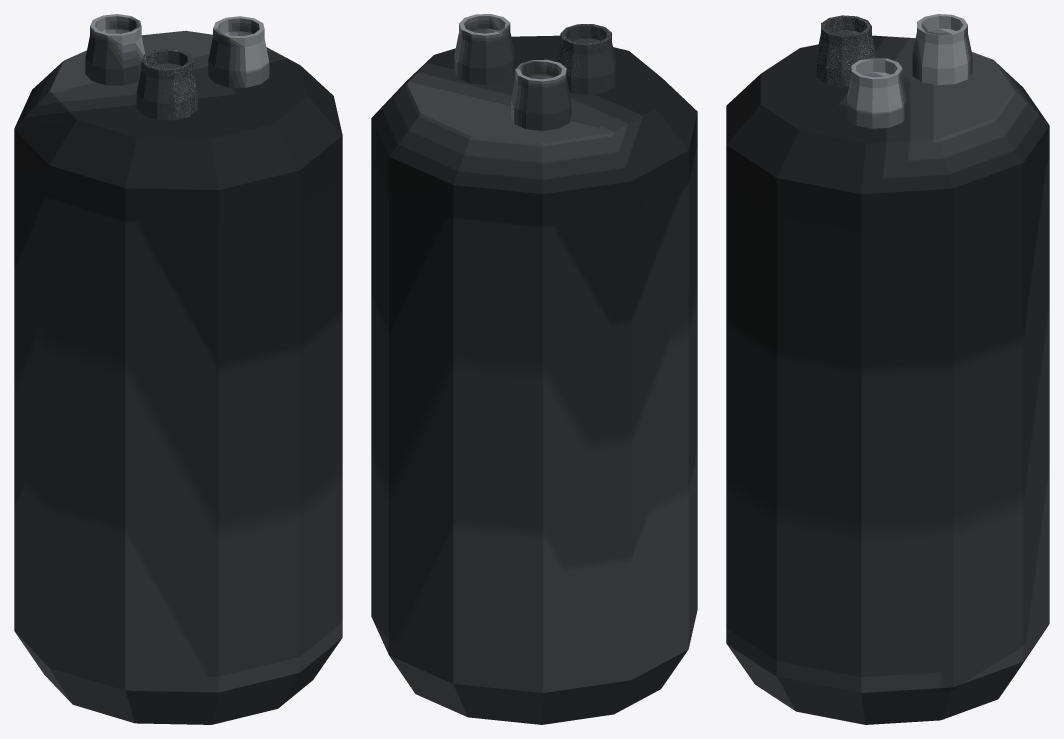
The model's file is oxygen.fbx.
3 views of the same model, side by side, from view 1: azimuth 30°, elevation 25°; view 2: azimuth 150°, elevation 25°; view 3: azimuth 270°, elevation 25° (orthographic).
Parts seen in each view (by area): view 1: B_OXYGEN_NOT_INCLUDED; view 2: B_OXYGEN_NOT_INCLUDED; view 3: B_OXYGEN_NOT_INCLUDED.
Part boxes in pixels (x1,y1,x2,y2): B_OXYGEN_NOT_INCLUDED: (14,14,342,724); B_OXYGEN_NOT_INCLUDED: (371,14,697,724); B_OXYGEN_NOT_INCLUDED: (726,14,1049,724).
Bounding box in the file's own units: 130 × 275 × 129.
